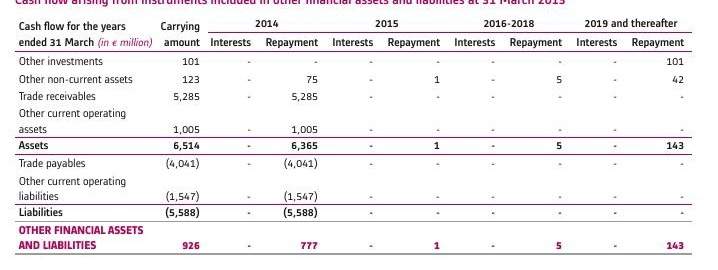table: (0, 0, 718, 270)
